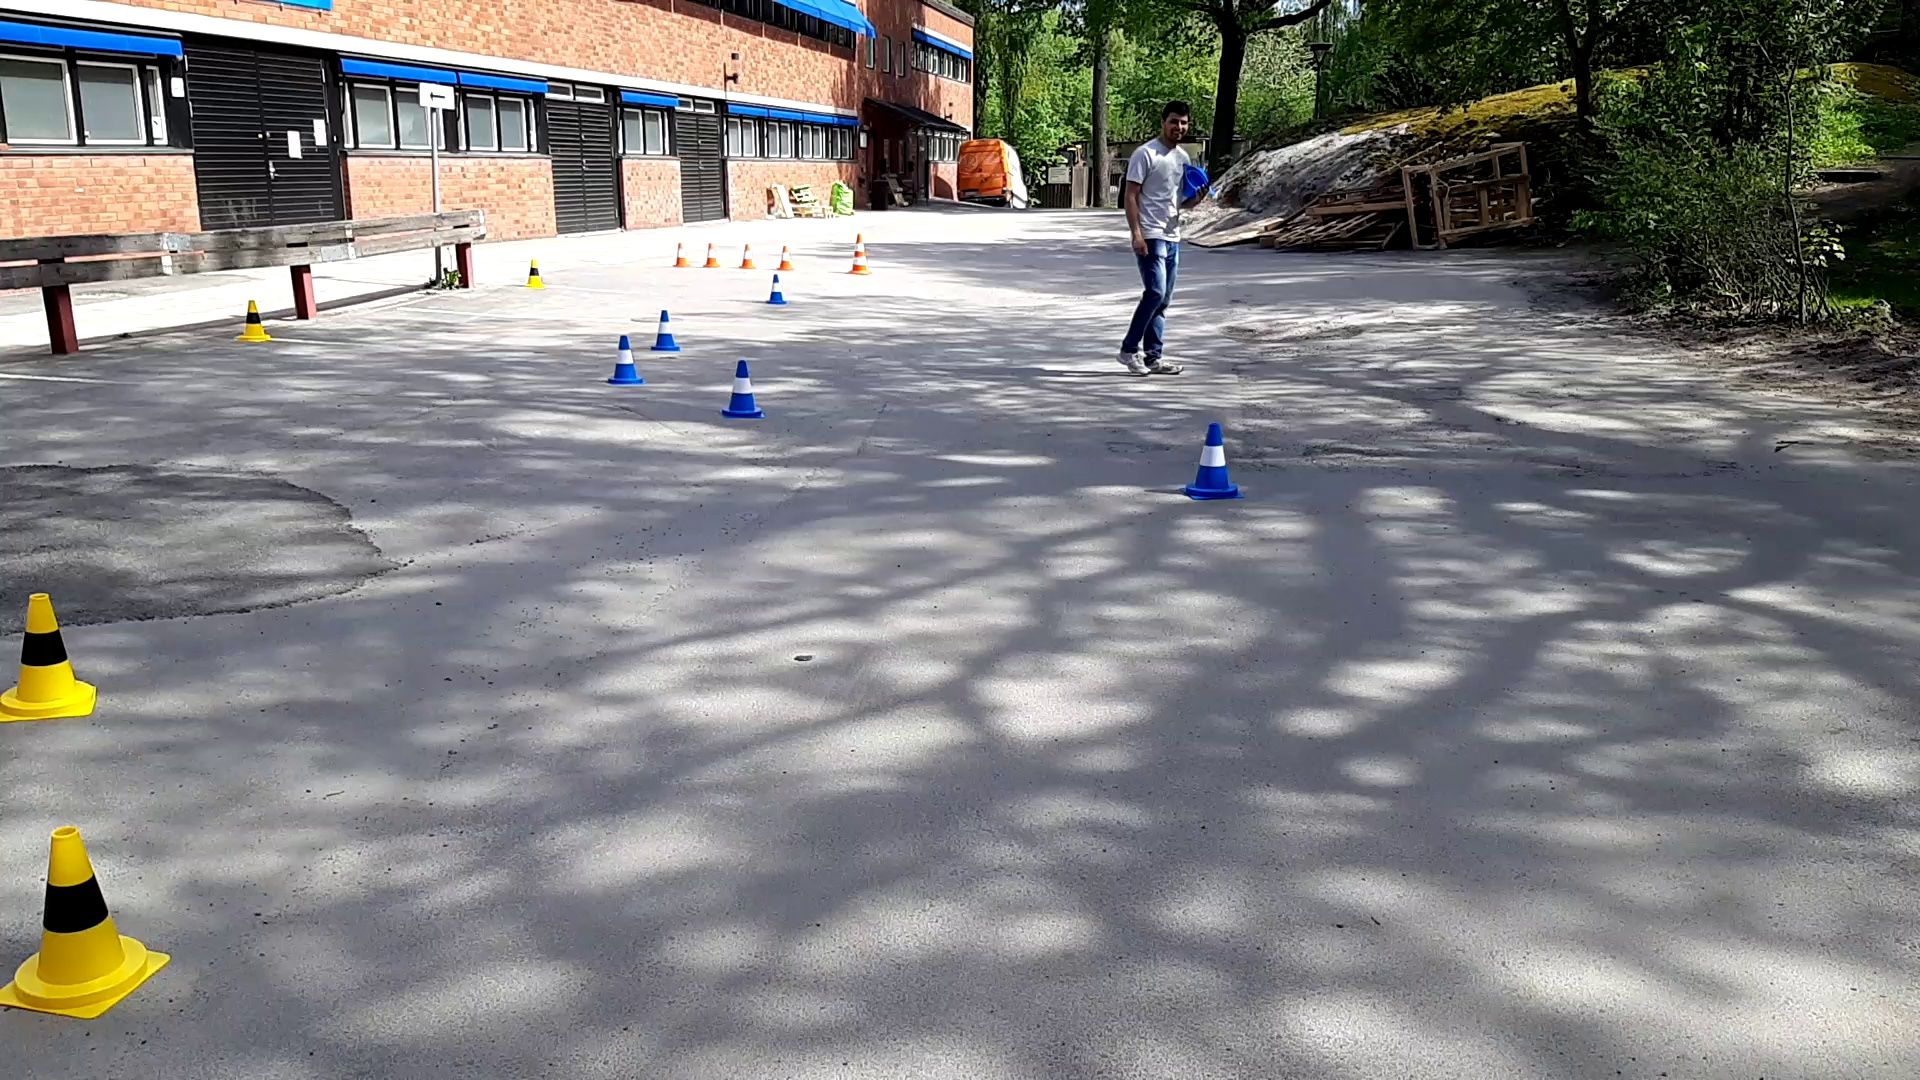Cone: (11, 820, 162, 1021), (1, 589, 105, 728), (1178, 419, 1244, 505), (717, 363, 767, 419), (233, 293, 278, 347), (608, 336, 641, 392), (653, 309, 683, 351)
